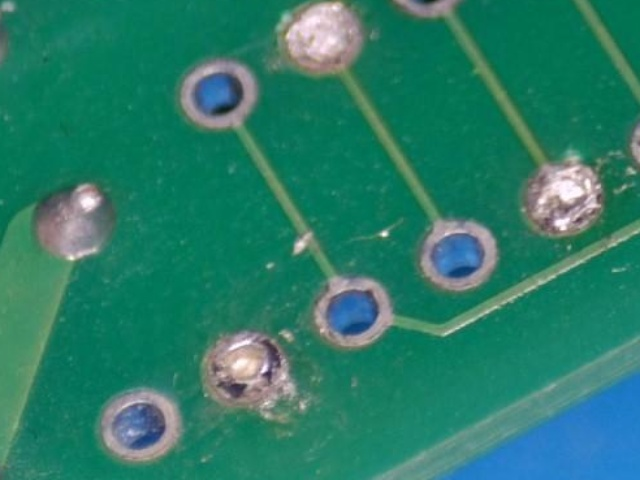pcb_defect: (525, 161, 603, 235), (204, 332, 282, 405), (285, 0, 359, 73)
